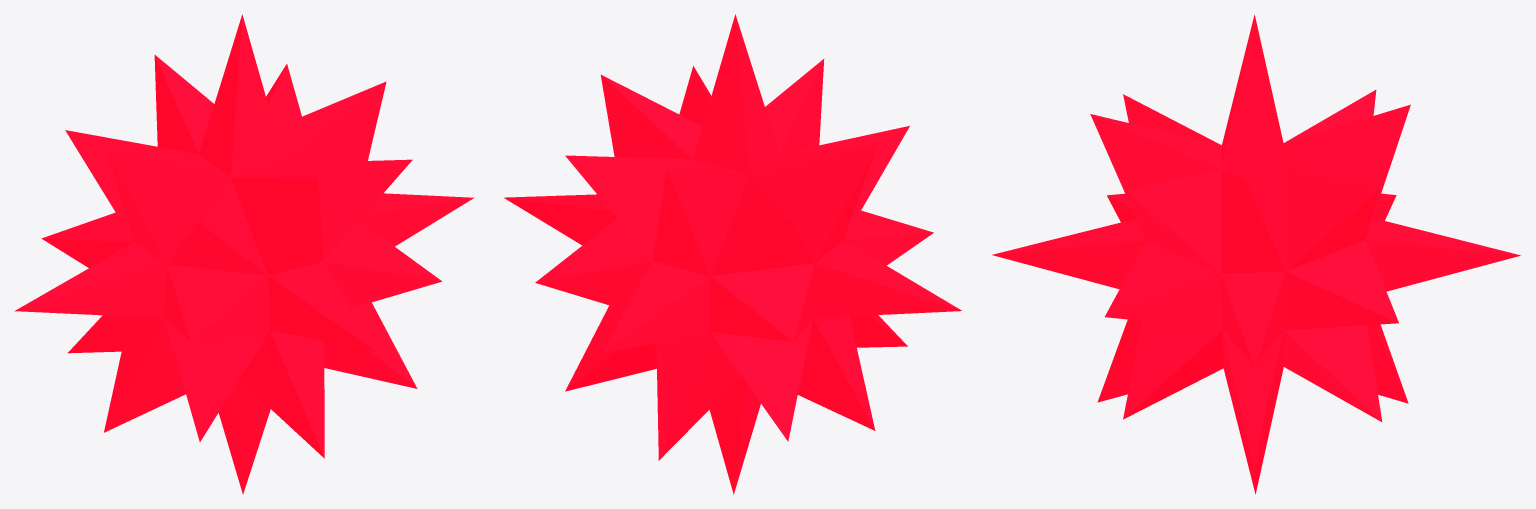
File: Star3.glb
3 renders of one model, left to right at view 1: azimuth 30°, elevation 25°; view 2: azimuth 150°, elevation 25°; view 3: azimuth 270°, elevation 25°, orthographic.
Visible parts, largest first — view 1: Moravian_Star.002; view 2: Moravian_Star.002; view 3: Moravian_Star.002.
Part boxes in pixels (x1,y1,x2,y2): Moravian_Star.002: (14,14,474,494); Moravian_Star.002: (504,14,961,494); Moravian_Star.002: (992,14,1520,494).
Size of the model in its own units: 1 by 1 by 1.
